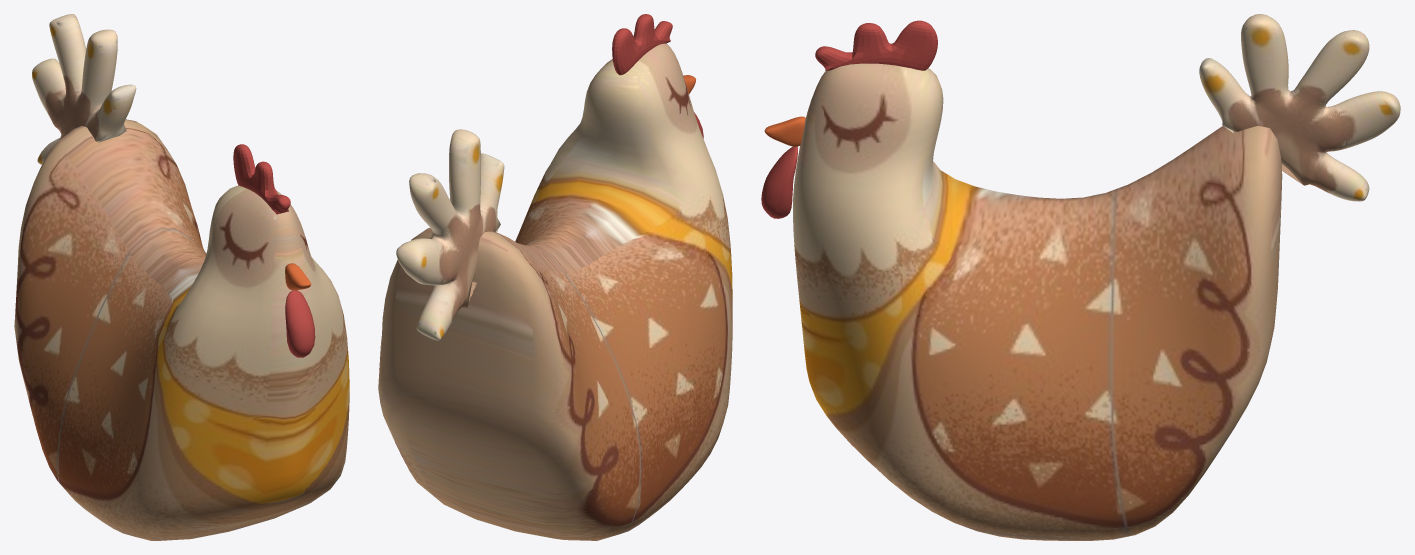
The model's file is gallina.glb.
The picture shows the model from 3 angles, left to right: view 1: azimuth 30°, elevation 25°; view 2: azimuth 150°, elevation 25°; view 3: azimuth 270°, elevation 25°; orthographic projection. The views are drawn at different scales.
Visible parts, largest first — view 1: Cube; view 2: Cube; view 3: Cube.
Boxes of the visible parts, box(x1,y1,x2,y2) form: Cube: box(14, 14, 349, 540); Cube: box(378, 14, 732, 540); Cube: box(761, 14, 1400, 540).
Size of the model in its own units: 0.596 by 1.17 by 1.36.
4 materials, 2 textured.
